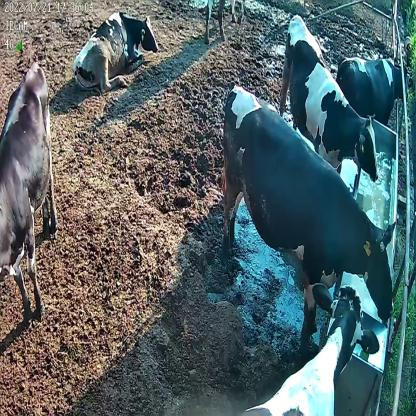cow: (220, 80, 398, 336), (238, 282, 380, 416), (276, 14, 380, 188), (1, 57, 58, 322), (71, 10, 160, 96), (338, 52, 412, 128)
